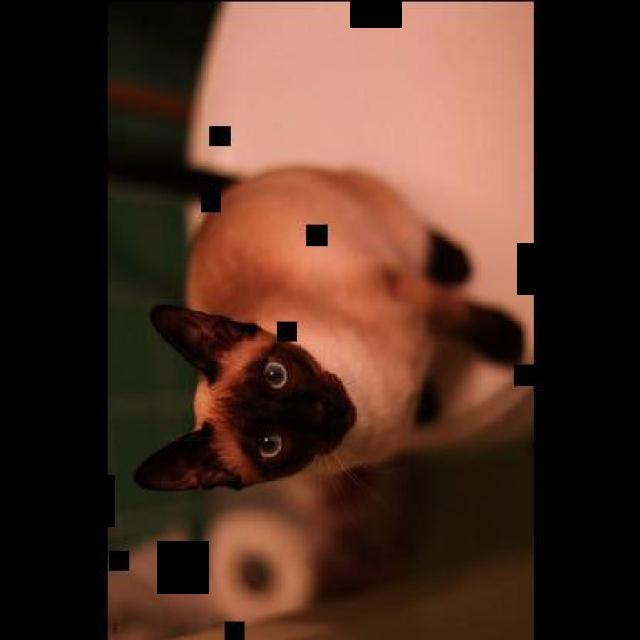unauthorized: (131, 163, 531, 495)
